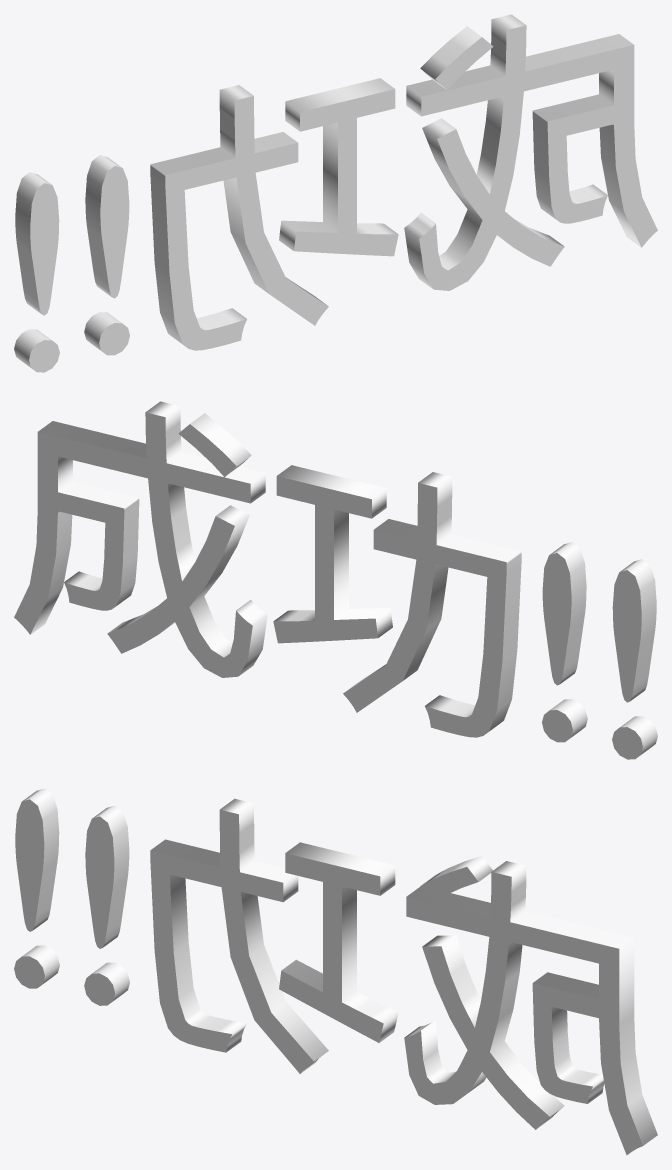
The model's file is Succeeded.obj.
3 views of the same model, one above another, from view 1: azimuth 30°, elevation 25°; view 2: azimuth 150°, elevation 25°; view 3: azimuth 330°, elevation 25° (orthographic).
Parts seen in each view (by area): view 1: テキスト; view 2: テキスト; view 3: テキスト.
Boxes of the visible parts, x1,y1,x2,y2 form: テキスト: (14,14,657,372); テキスト: (14,401,657,759); テキスト: (14,788,657,1155).
Size of the model in its own units: 2.43 by 0.926 by 0.1.
Materials: 1 (1 with a texture image).
